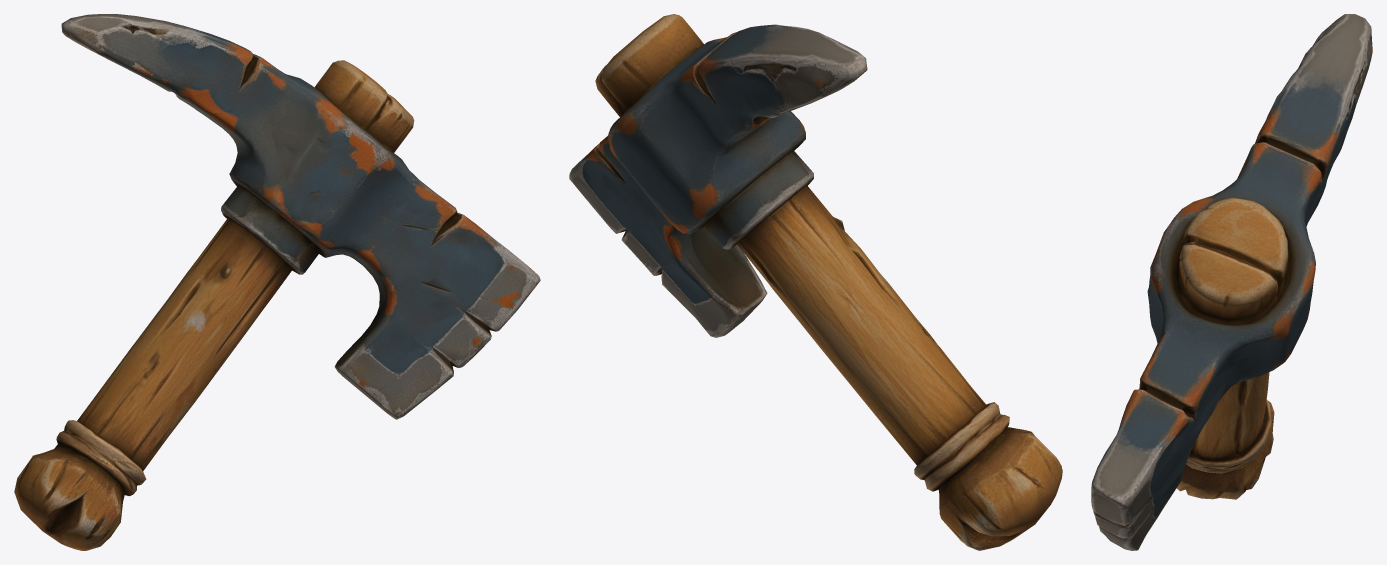
Rendered from pickaxe.glb.
3 views of the same model, side by side, from view 1: azimuth 30°, elevation 25°; view 2: azimuth 150°, elevation 25°; view 3: azimuth 270°, elevation 25° (orthographic). The views are drawn at different scales.
Parts seen in each view (by area): view 1: tripo_node_b7f20e4c-a2a9-4ccd-8a25-391462b7afa8; view 2: tripo_node_b7f20e4c-a2a9-4ccd-8a25-391462b7afa8; view 3: tripo_node_b7f20e4c-a2a9-4ccd-8a25-391462b7afa8.
Part boxes in pixels (x1=…): tripo_node_b7f20e4c-a2a9-4ccd-8a25-391462b7afa8: x1=14, y1=14, x2=540, y2=550; tripo_node_b7f20e4c-a2a9-4ccd-8a25-391462b7afa8: x1=569, y1=14, x2=1062, y2=550; tripo_node_b7f20e4c-a2a9-4ccd-8a25-391462b7afa8: x1=1091, y1=14, x2=1372, y2=550.
Size of the model in its own units: 0.98 by 0.9302 by 0.4604.
1 material, 1 textured.
